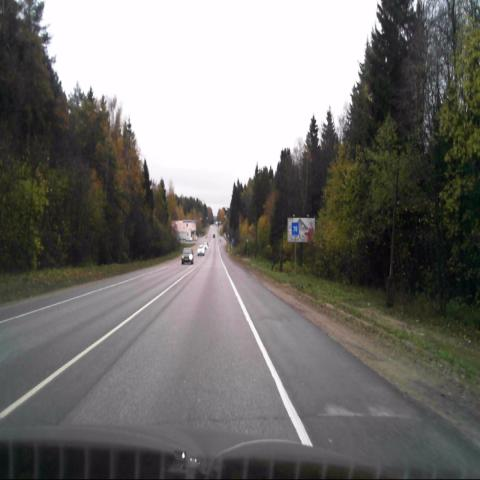6_2: (292, 223, 299, 235)
